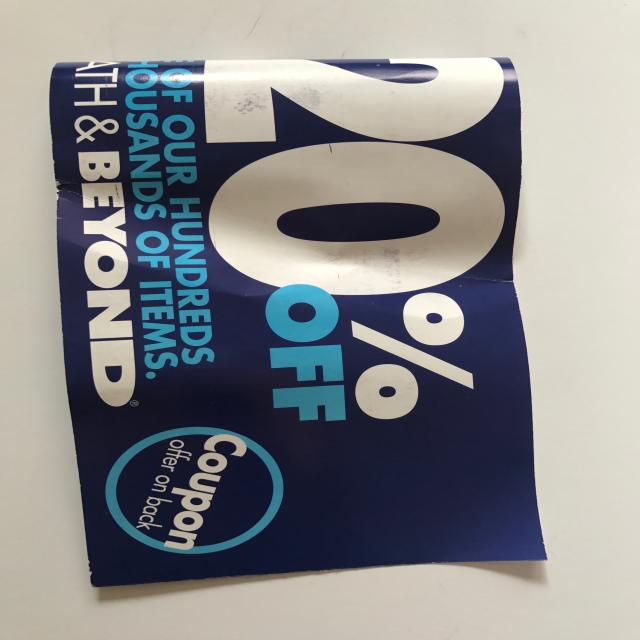paper: (50, 57, 548, 587)
